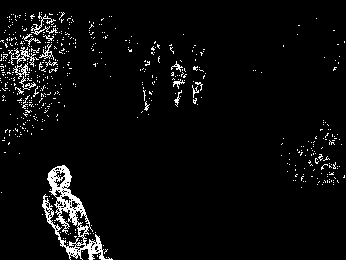person: (41, 163, 112, 260), (137, 59, 157, 114), (170, 59, 187, 108), (190, 60, 206, 106)
